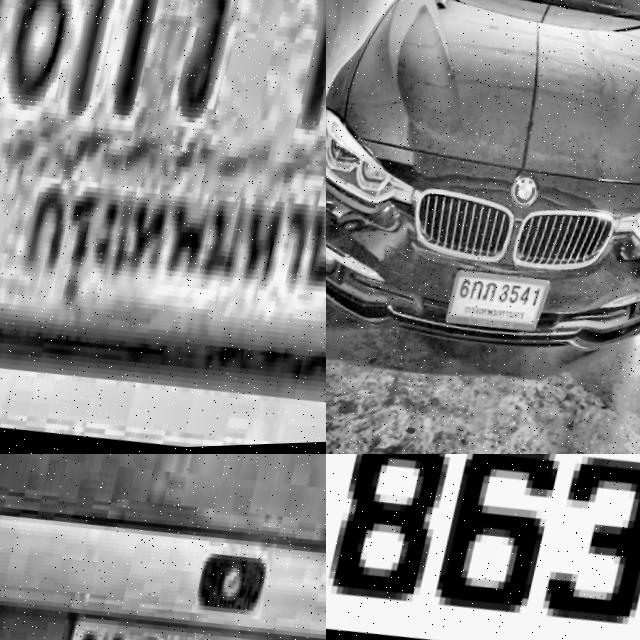license-plate: (0, 0, 326, 416), (326, 454, 640, 640), (22, 594, 326, 640), (448, 261, 558, 341)
